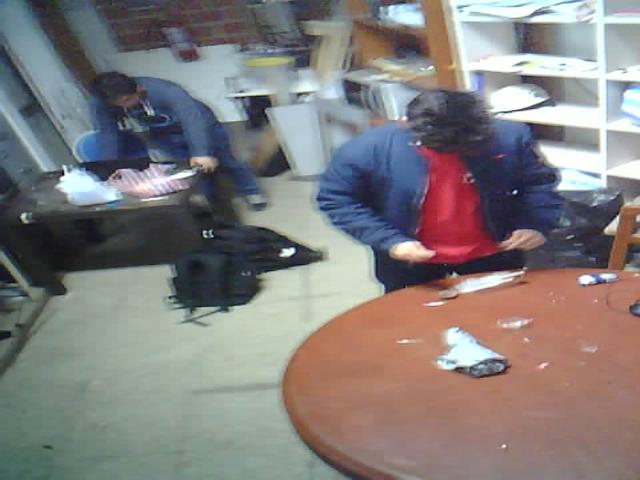person: (315, 70, 568, 310), (59, 54, 280, 228)
